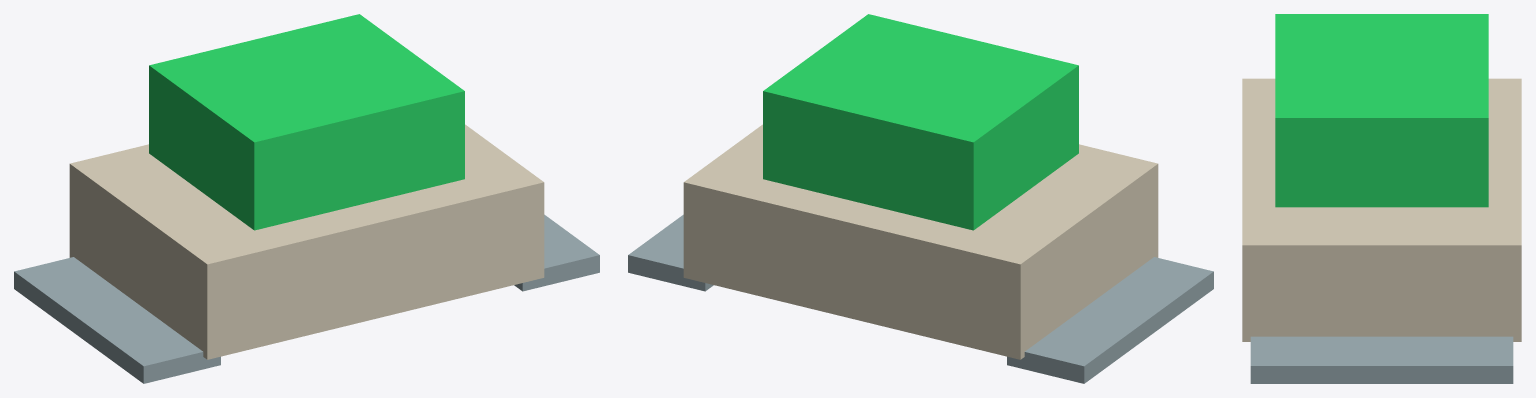
Rendered from 48_L97_LED1_LED.fbx.
The picture shows the model from 3 angles, left to right: view 1: azimuth 30°, elevation 25°; view 2: azimuth 150°, elevation 25°; view 3: azimuth 270°, elevation 25°; orthographic projection.
Visible parts, largest first — view 1: LED1_base, LED1_lens, LED1_pad (×2); view 2: LED1_base, LED1_lens, LED1_pad (×2); view 3: LED1_base, LED1_lens, LED1_pad.
Boxes of the visible parts, x1=… form: LED1_base: x1=69, y1=124, x2=544, y2=359; LED1_lens: x1=149, y1=14, x2=464, y2=230; LED1_pad (×2): x1=14, y1=214, x2=599, y2=383; LED1_base: x1=683, y1=124, x2=1158, y2=359; LED1_lens: x1=763, y1=14, x2=1078, y2=230; LED1_pad (×2): x1=628, y1=214, x2=1213, y2=383; LED1_base: x1=1242, y1=78, x2=1521, y2=341; LED1_lens: x1=1275, y1=14, x2=1488, y2=207; LED1_pad: x1=1250, y1=336, x2=1513, y2=383.
Bounding box in the file's own units: 0.00325 × 0.00138 × 0.0017.
